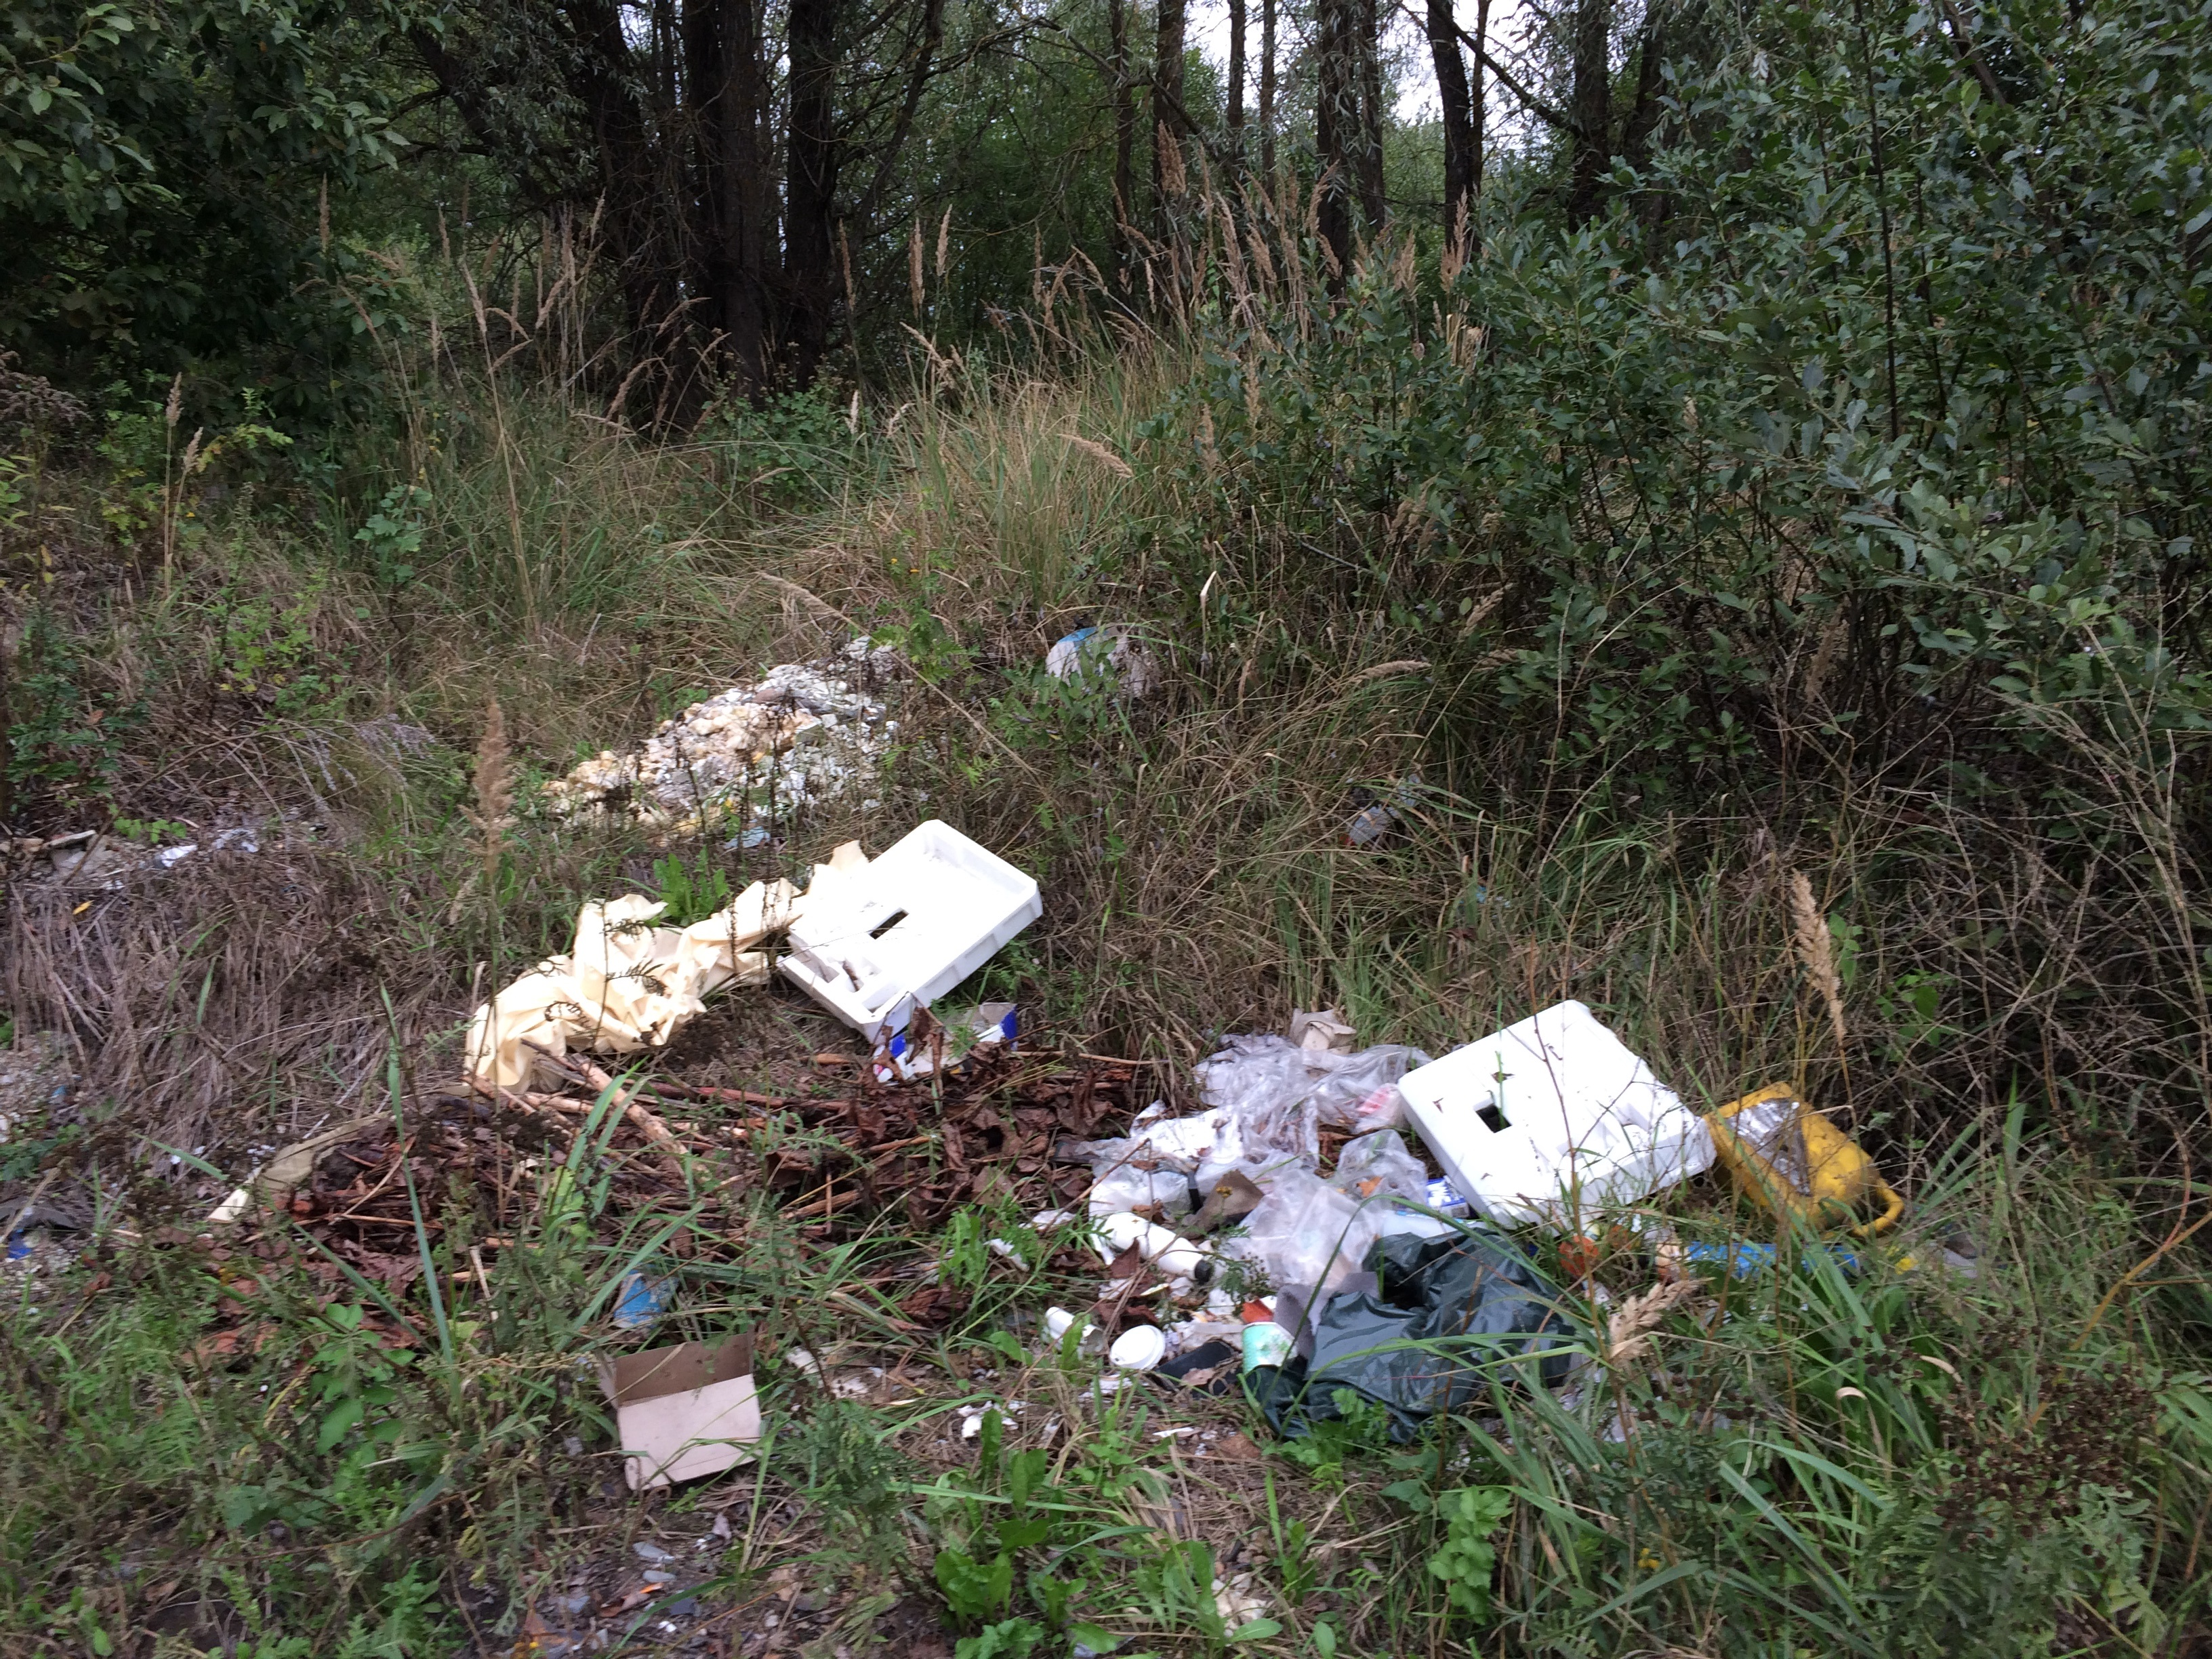trash: (1021, 945, 1961, 1398), (434, 781, 1120, 1124), (453, 608, 948, 840), (580, 1337, 789, 1530), (1038, 594, 1205, 751)
